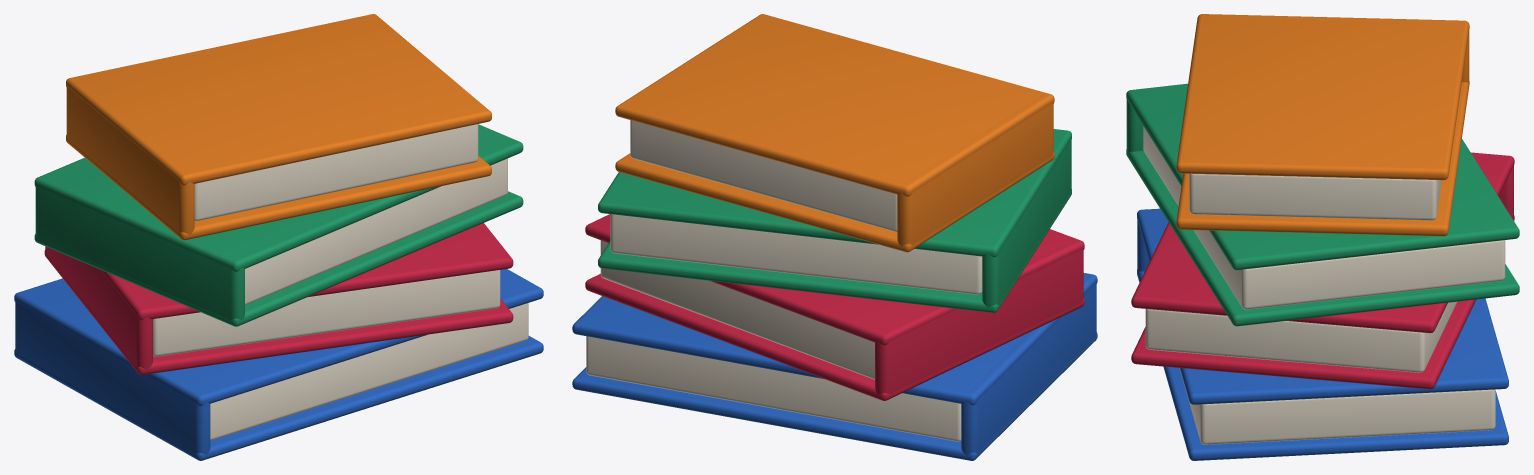
The model's file is level-high_school.glb.
3 renders of one model, left to right at view 1: azimuth 30°, elevation 25°; view 2: azimuth 150°, elevation 25°; view 3: azimuth 270°, elevation 25°, orthographic. The views are drawn at different scales.
Visible parts, largest first — view 1: Cube.013, Cube.007, Cube.003, Cube.009, Cube.010, Cube.015, Cube.002, Cube.001, Cube.011, Cube.005, Cube.014, Cube (+4 smaller); view 2: Cube.013, Cube.011, Cube.003, Cube.009, Cube.006, Cube.015, Cube.001, Cube.007, Cube.014, Cube.005, Cube, Cube.002 (+4 smaller); view 3: Cube.013, Cube.009, Cube.011, Cube.003, Cube.007, Cube.015, Cube.001, Cube.005, Cube.008, Cube, Cube.004, Cube.012 (+4 smaller).
Part boxes in pixels (x1=…): Cube.013: x1=66, y1=14, x2=491, y2=185; Cube.007: x1=153, y1=270, x2=500, y2=356; Cube.003: x1=210, y1=303, x2=528, y2=440; Cube.009: x1=34, y1=124, x2=523, y2=271; Cube.010: x1=35, y1=177, x2=244, y2=320; Cube.015: x1=194, y1=124, x2=478, y2=221; Cube.002: x1=15, y1=292, x2=210, y2=454; Cube.001: x1=14, y1=269, x2=543, y2=405; Cube.011: x1=245, y1=158, x2=507, y2=305; Cube.005: x1=100, y1=223, x2=513, y2=319; Cube.014: x1=66, y1=78, x2=194, y2=234; Cube: x1=14, y1=336, x2=543, y2=460; Cube.013: x1=615, y1=14, x2=1054, y2=196; Cube.011: x1=610, y1=214, x2=982, y2=294; Cube.003: x1=586, y1=336, x2=961, y2=441; Cube.009: x1=598, y1=129, x2=1071, y2=256; Cube.006: x1=875, y1=240, x2=1083, y2=394; Cube.015: x1=630, y1=120, x2=897, y2=232; Cube.001: x1=572, y1=273, x2=1097, y2=405; Cube.007: x1=600, y1=240, x2=874, y2=379; Cube.014: x1=897, y1=94, x2=1053, y2=246; Cube.005: x1=585, y1=214, x2=1084, y2=345; Cube: x1=572, y1=332, x2=1097, y2=460; Cube.002: x1=961, y1=275, x2=1096, y2=455; Cube.013: x1=1176, y1=14, x2=1469, y2=180; Cube.009: x1=1126, y1=83, x2=1519, y2=270; Cube.011: x1=1143, y1=126, x2=1505, y2=309; Cube.003: x1=1179, y1=368, x2=1495, y2=444; Cube.007: x1=1145, y1=301, x2=1456, y2=372; Cube.015: x1=1189, y1=173, x2=1441, y2=220; Cube.001: x1=1137, y1=208, x2=1508, y2=404; Cube.005: x1=1131, y1=152, x2=1514, y2=333; Cube.008: x1=1126, y1=149, x2=1519, y2=326; Cube: x1=1137, y1=269, x2=1508, y2=460; Cube.004: x1=1131, y1=215, x2=1514, y2=389; Cube.012: x1=1176, y1=81, x2=1469, y2=236.
Bounding box in the file's own units: 1.94 × 1.2 × 1.59.
